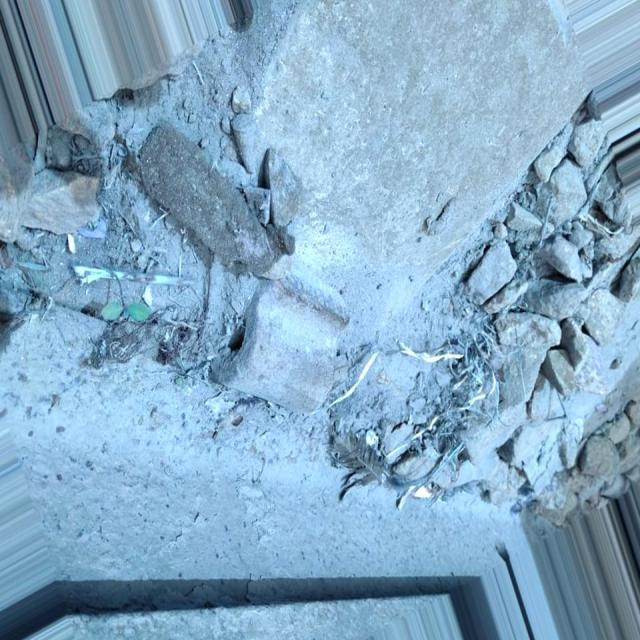Missing Fastener: (184, 241, 377, 445)
